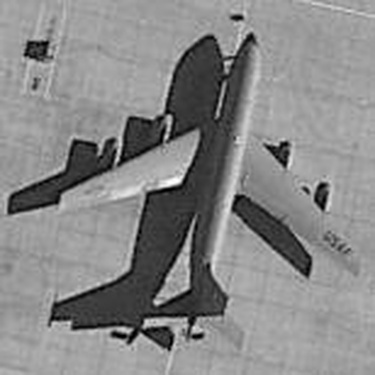airplane: (32, 21, 366, 360)
